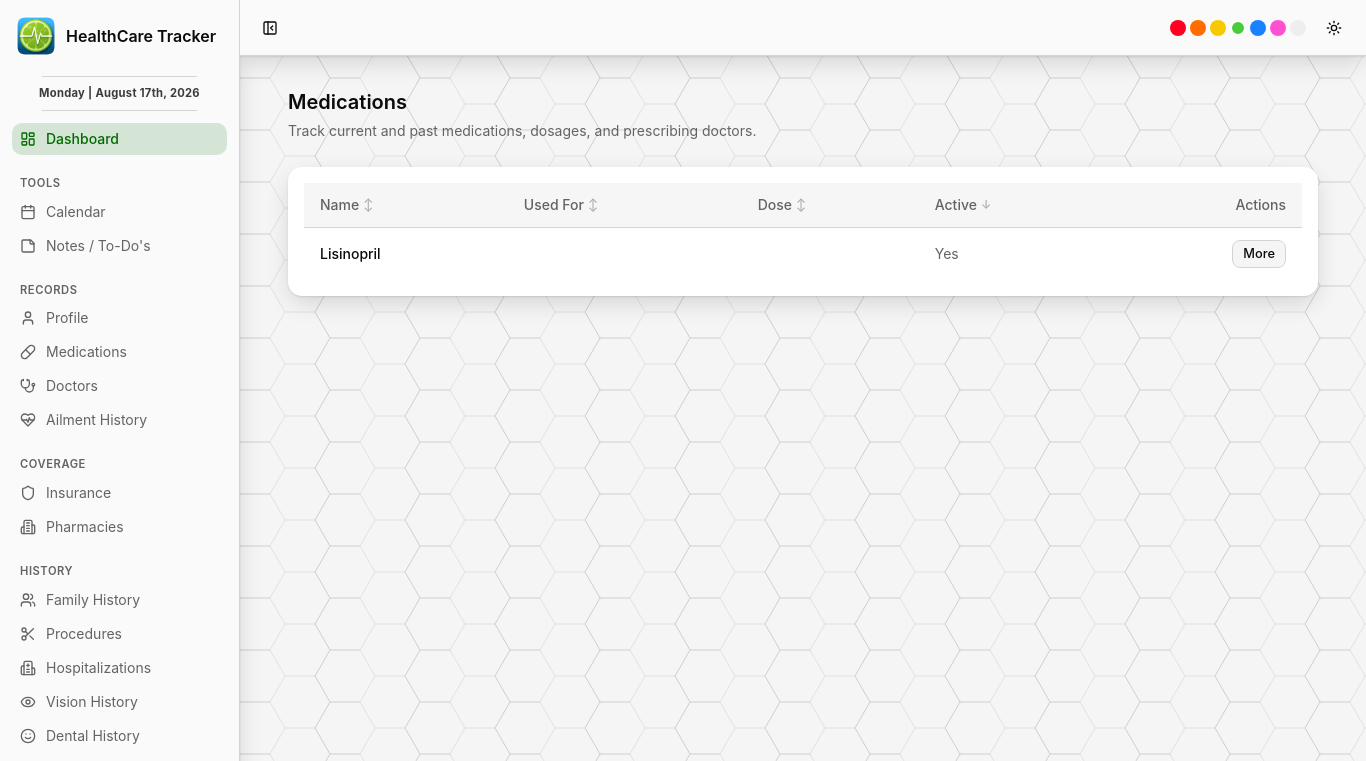
MedicationsPage › detail modal shows the pharmacy name
The image size is (1366, 761).
Click the button with aria-label "more details for" at (1259, 254), box x1=1232 y1=240 x2=1286 y2=268
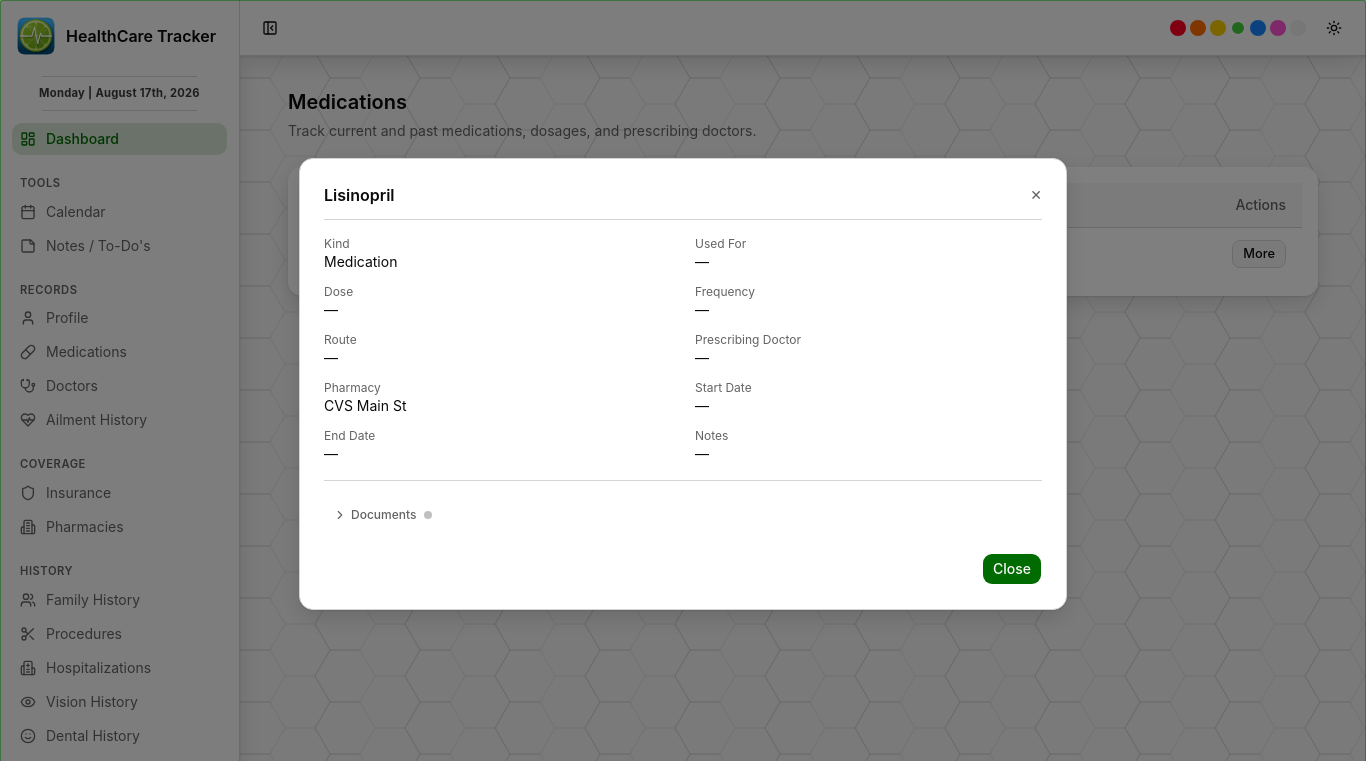
Now the text "Pharmacy" is shown, box x1=324 y1=380 x2=381 y2=395
Now the text "CVS Main St" is shown, box x1=324 y1=397 x2=406 y2=414
